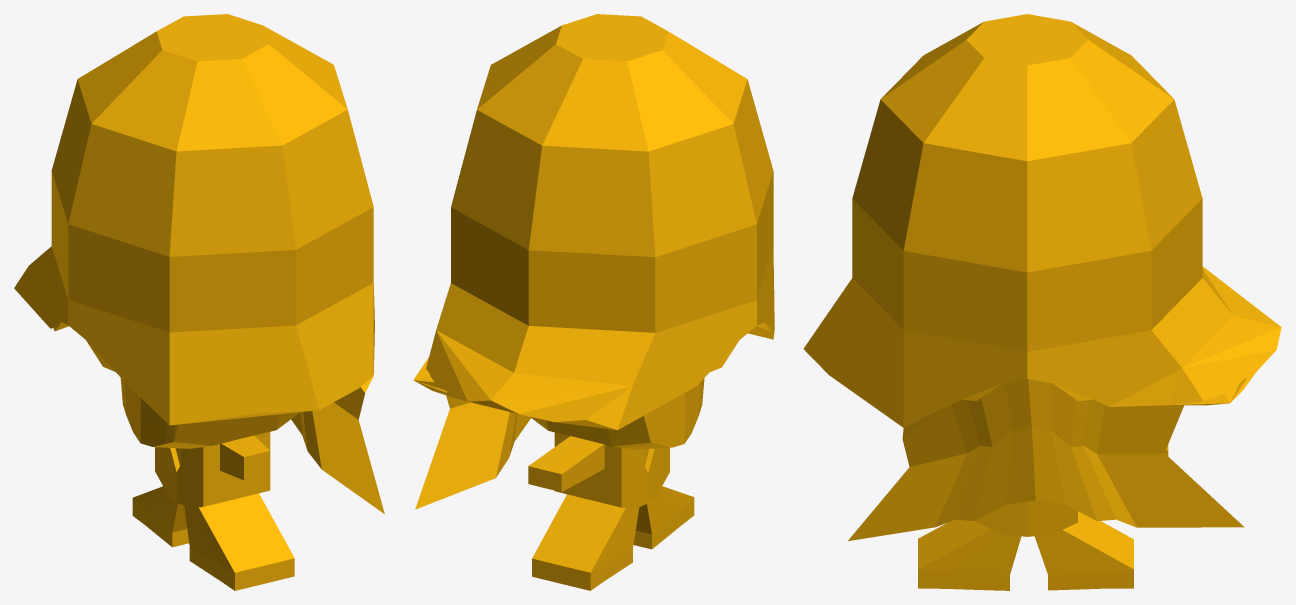
Rendered from MYSTISKE_MARTLIN.fbx.
3 views of the same model, side by side, from view 1: azimuth 30°, elevation 25°; view 2: azimuth 150°, elevation 25°; view 3: azimuth 270°, elevation 25° (orthographic). The views are drawn at different scales.
Visible parts, largest first — view 1: Cylinder.003; view 2: Cylinder.003; view 3: Cylinder.003.
Part boxes in pixels (bbox=[...]): Cylinder.003: bbox=[14, 14, 384, 590]; Cylinder.003: bbox=[413, 14, 774, 590]; Cylinder.003: bbox=[803, 14, 1281, 590].
Bounding box in the file's own units: 200 × 337 × 273.
